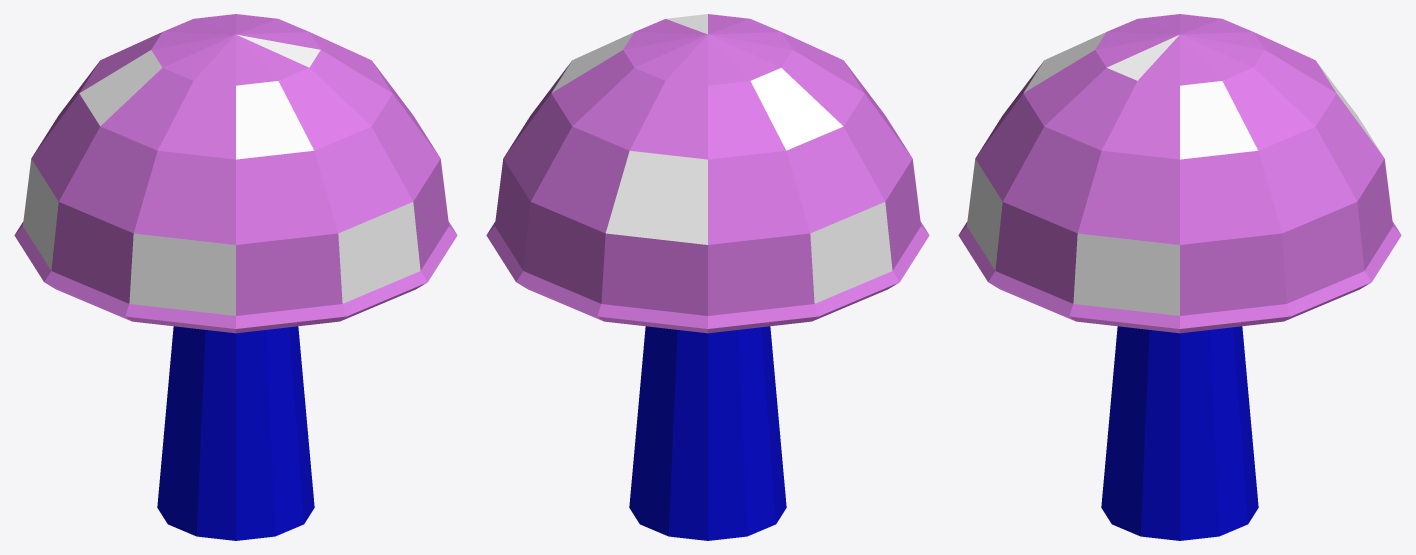
Rendered from PinkAndBlueMushrrom.fbx.
3 views of the same model, side by side, from view 1: azimuth 30°, elevation 25°; view 2: azimuth 150°, elevation 25°; view 3: azimuth 270°, elevation 25° (orthographic).
Parts seen in each view (by area): view 1: Sphere.002; view 2: Sphere.002; view 3: Sphere.002.
Part boxes in pixels (box(x1,y1,x2,y2)): Sphere.002: box(14, 14, 457, 540); Sphere.002: box(486, 14, 929, 540); Sphere.002: box(958, 14, 1401, 540).
Bounding box in the file's own units: 129 × 152 × 129.
